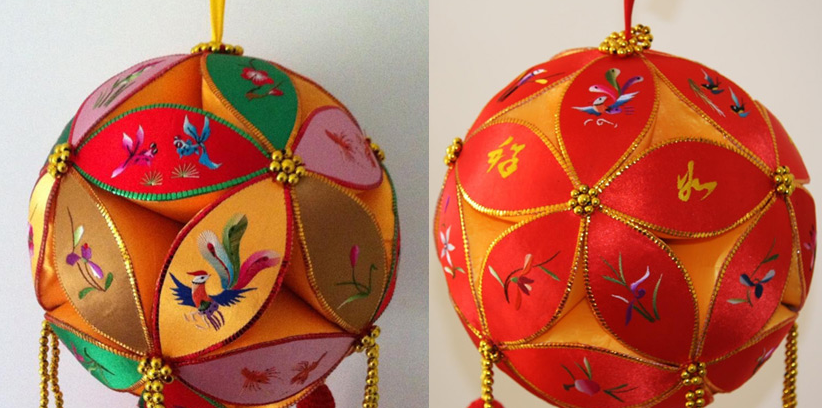xiuqiu: (432, 40, 822, 400), (26, 45, 394, 403)
